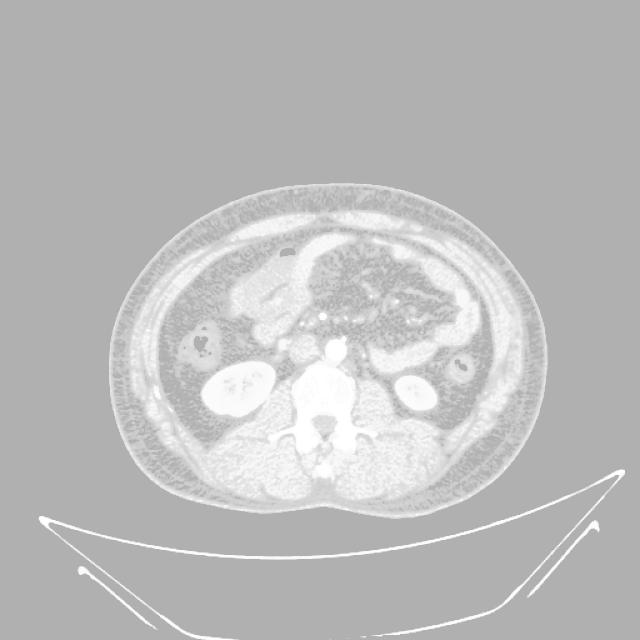NORMAL: (111, 154, 555, 534)
